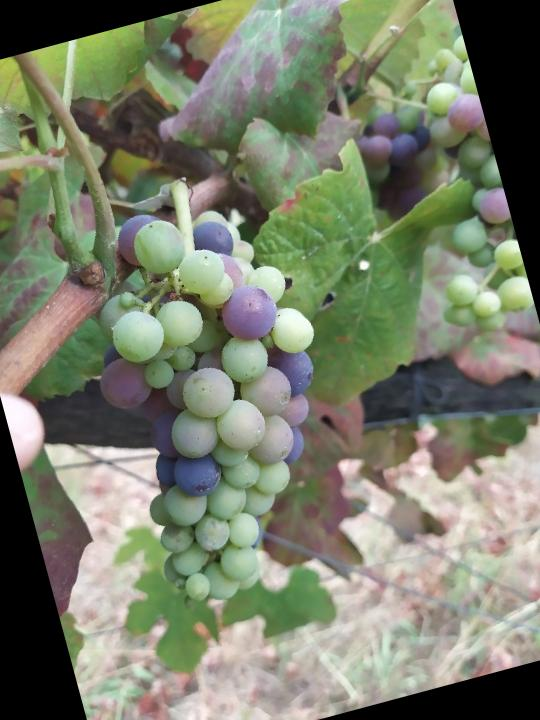grape: (56, 176, 380, 623)
